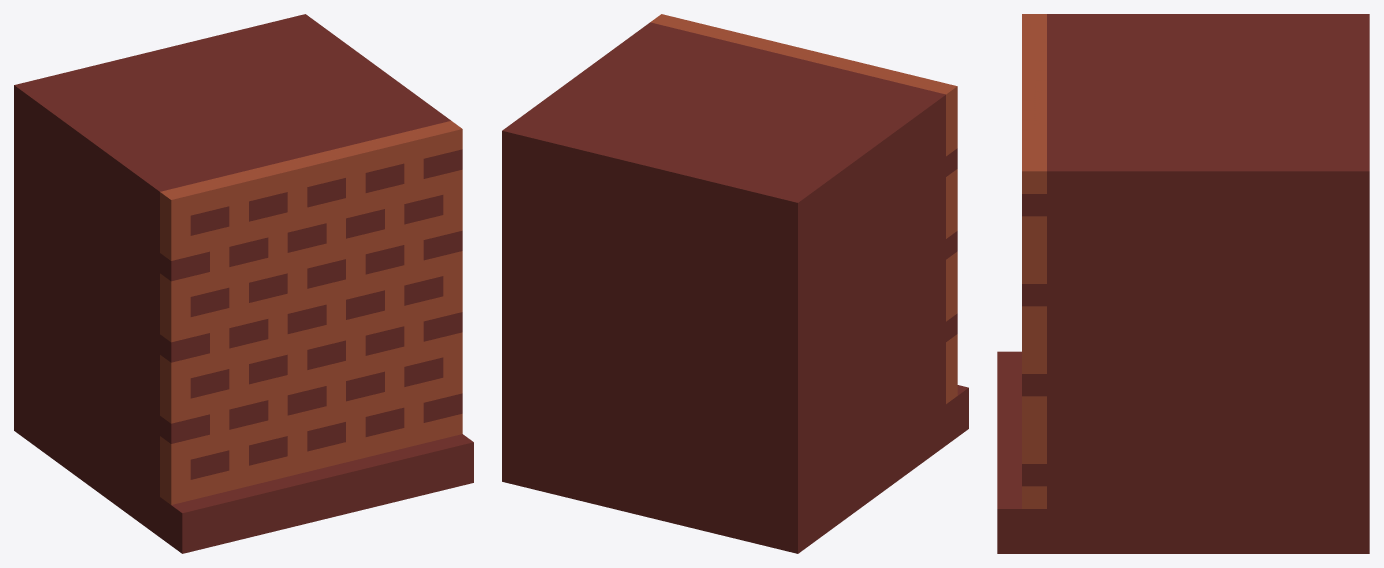
Rendered from dungeon_b_b_outer_wall_segment_a.obj.
3 renders of one model, left to right at view 1: azimuth 30°, elevation 25°; view 2: azimuth 150°, elevation 25°; view 3: azimuth 270°, elevation 25°, orthographic. The views are drawn at different scales.
Bounding box in the file's own units: 1.5 × 1.7 × 1.5.
Materials: 1 (1 with a texture image).
